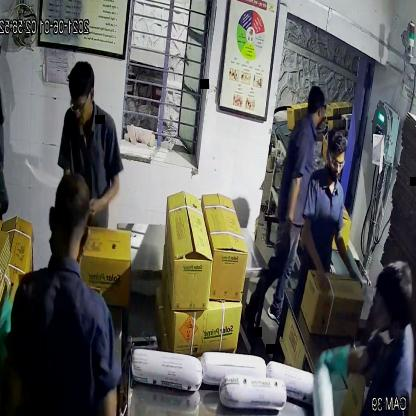goggles: (68, 89, 96, 118), (325, 152, 347, 175)
